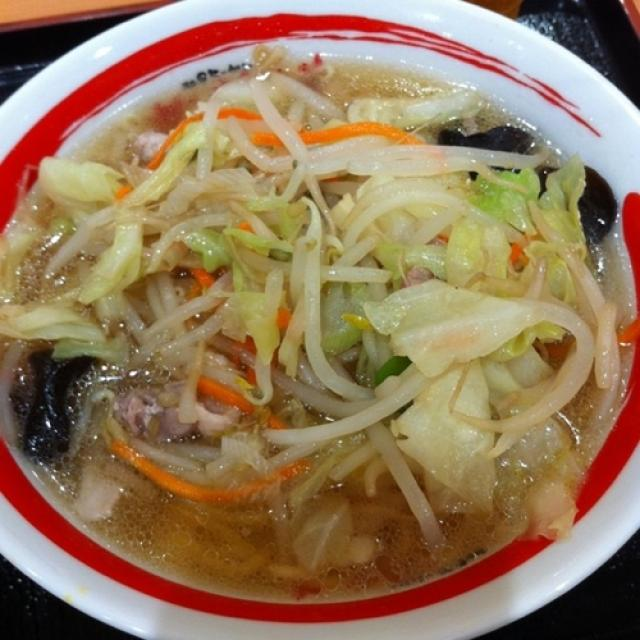牛肉菜式: (36, 87, 553, 620)
